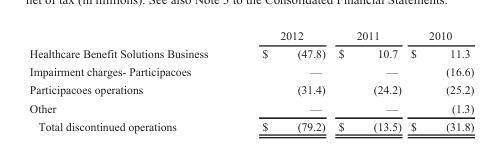table: (28, 28, 473, 132)
table column: (28, 28, 234, 132), (234, 28, 331, 132), (331, 28, 405, 132), (405, 28, 473, 132)
table column header: (28, 28, 473, 44)
table row: (28, 44, 473, 62), (28, 62, 473, 80), (28, 80, 473, 98), (28, 98, 473, 116), (28, 28, 473, 44), (28, 116, 473, 132)
